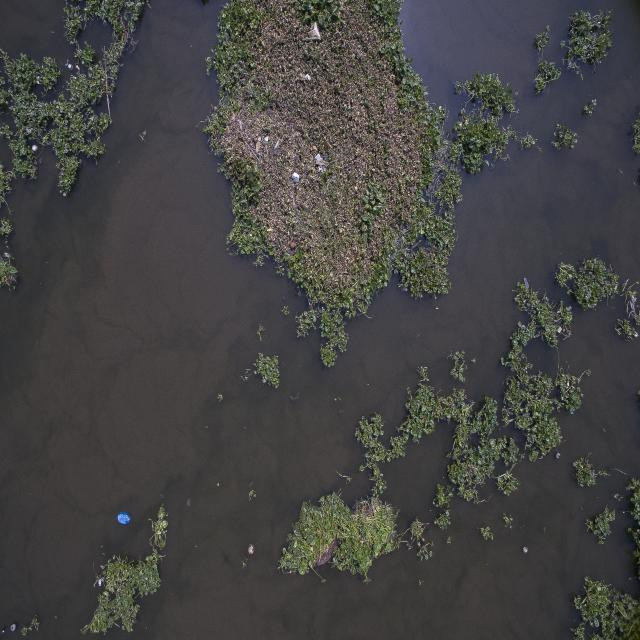debris: (304, 23, 321, 42), (315, 153, 326, 171), (291, 171, 299, 184), (556, 324, 562, 334), (266, 226, 274, 233), (304, 74, 312, 81), (257, 151, 262, 162)
plastic: (118, 511, 132, 526), (8, 621, 17, 635), (31, 140, 39, 154), (247, 542, 255, 556), (553, 450, 562, 462), (522, 276, 530, 288), (273, 139, 280, 151), (66, 61, 74, 71), (24, 126, 32, 136), (96, 576, 103, 587), (185, 497, 192, 508), (522, 544, 528, 555), (238, 121, 243, 131), (555, 262, 561, 270), (159, 492, 165, 499)
